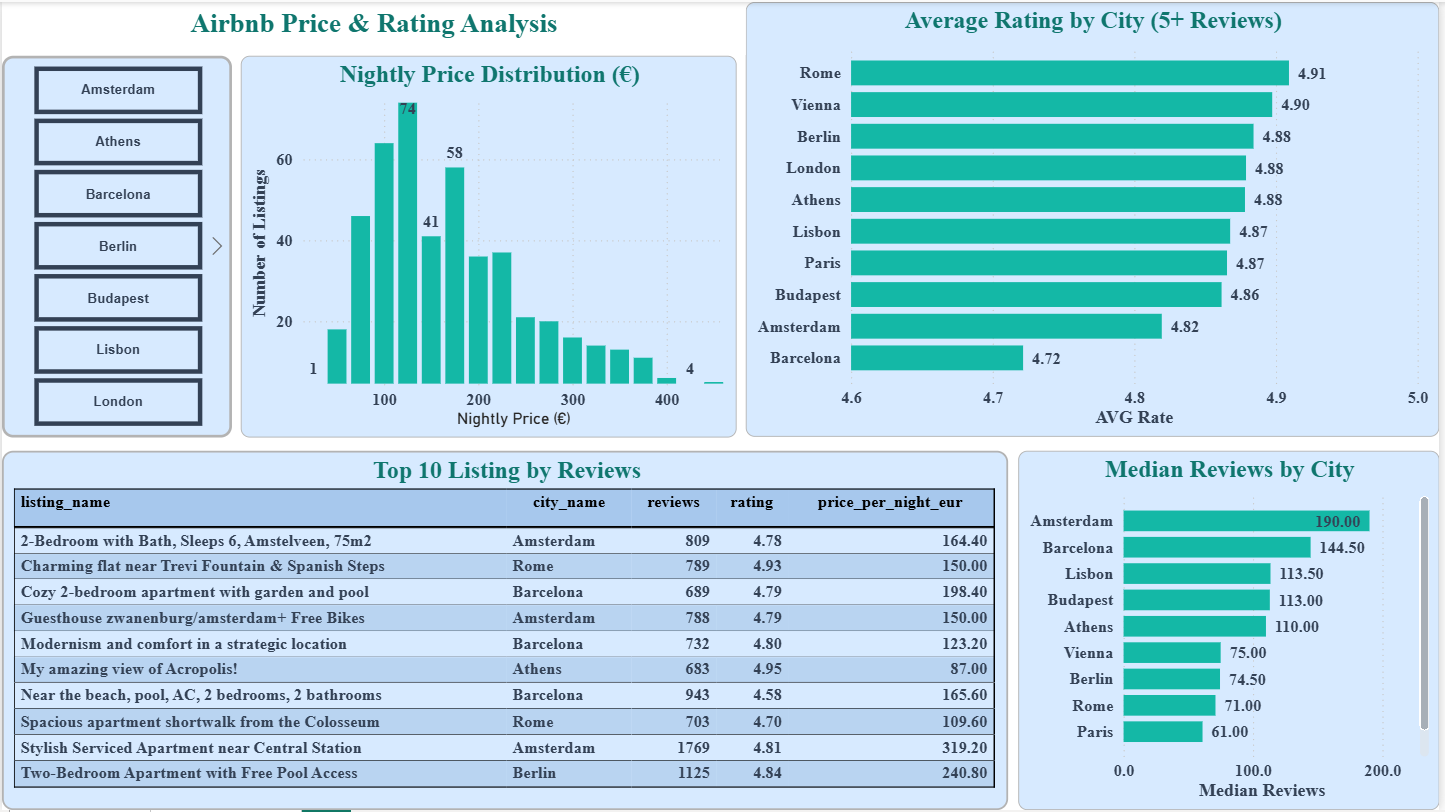

The page's visual inventory and layout, read from the dashboard file:
{"tool":"powerbi","page":{"name":"Price vs Rating","canvas":[1280,720],"ordinal":1},"visuals":[{"type":"slicer","fields":{"Values":["dim_city.city_name"]},"box":[0,47.5,205,340],"z":0},{"type":"clusteredBarChart","title":"Average Rating by City (5+ Reviews)","fields":{"Category":["dim_city.city_name"],"Y":["fact_listing.Avg Rating (reliable)"]},"box":[662.5,0,617.5,387.5],"z":1000},{"type":"tableEx","title":"Top 10 Listing by Reviews","fields":{"Values":["dim_listing.listing_name","dim_city.city_name","fact_listing.reviews","fact_listing.rating","fact_listing.price_per_night_eur"]},"box":[0,400,896.2,320],"z":2000},{"type":"textbox","box":[0,0,662.5,47.5],"z":3000},{"type":"clusteredColumnChart","title":"Nightly Price Distribution (€)","fields":{"Category":["fact_listing.price_per_night_eur (bins)"],"Y":["CountNonNull(fact_listing.listing_key)"]},"box":[212.7,48.2,441.8,340],"z":4000},{"type":"clusteredBarChart","title":"Median Reviews by City","fields":{"Category":["dim_city.city_name"],"Y":["fact_listing.Median Reviews"]},"box":[905,400,375,320],"z":5000}]}

Visuals, with their boxes in screenshot pixels (x1, y1, x2, y2), scaled from the page's 1280x720 canvas onto the 1445x812 screenshot:
slicer - dim_city.city_name: (left=0, top=54, right=231, bottom=437)
"Average Rating by City (5+ Reviews)" clusteredBarChart: (left=748, top=0, right=1444, bottom=437)
"Top 10 Listing by Reviews" tableEx: (left=0, top=451, right=1012, bottom=811)
textbox: (left=0, top=0, right=748, bottom=54)
"Nightly Price Distribution (€)" clusteredColumnChart: (left=240, top=54, right=739, bottom=438)
"Median Reviews by City" clusteredBarChart: (left=1022, top=451, right=1444, bottom=811)
